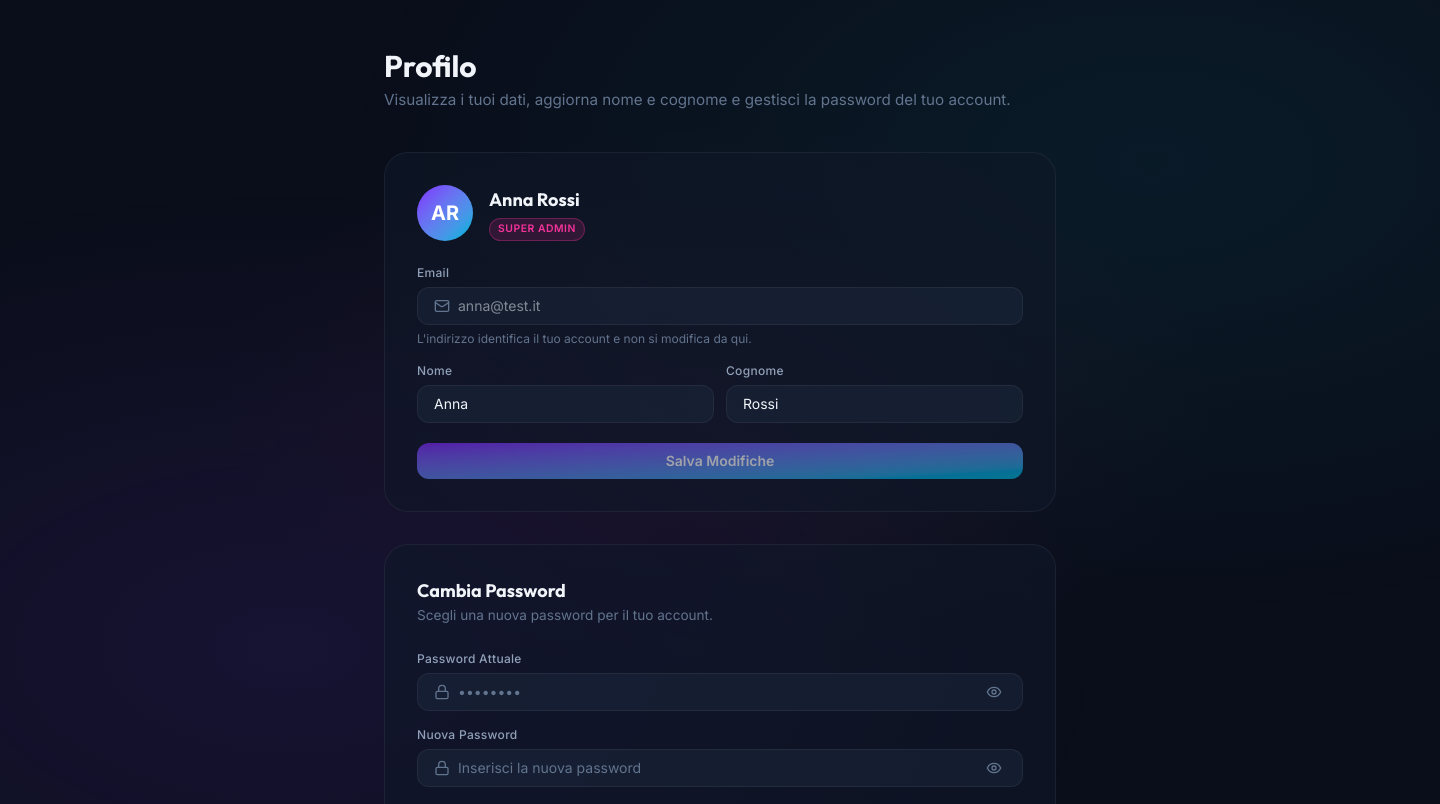
i propri dati › tiene spento il salvataggio finché niente è cambiato
Expected: the button "Salva Modifiche" is disabled, top-left (417, 443), bottom-right (1023, 479)
Type "lisa" into the field labelled "Nome".
click(566, 404); type("lisa")  # box top-left (434, 386), bottom-right (697, 422)
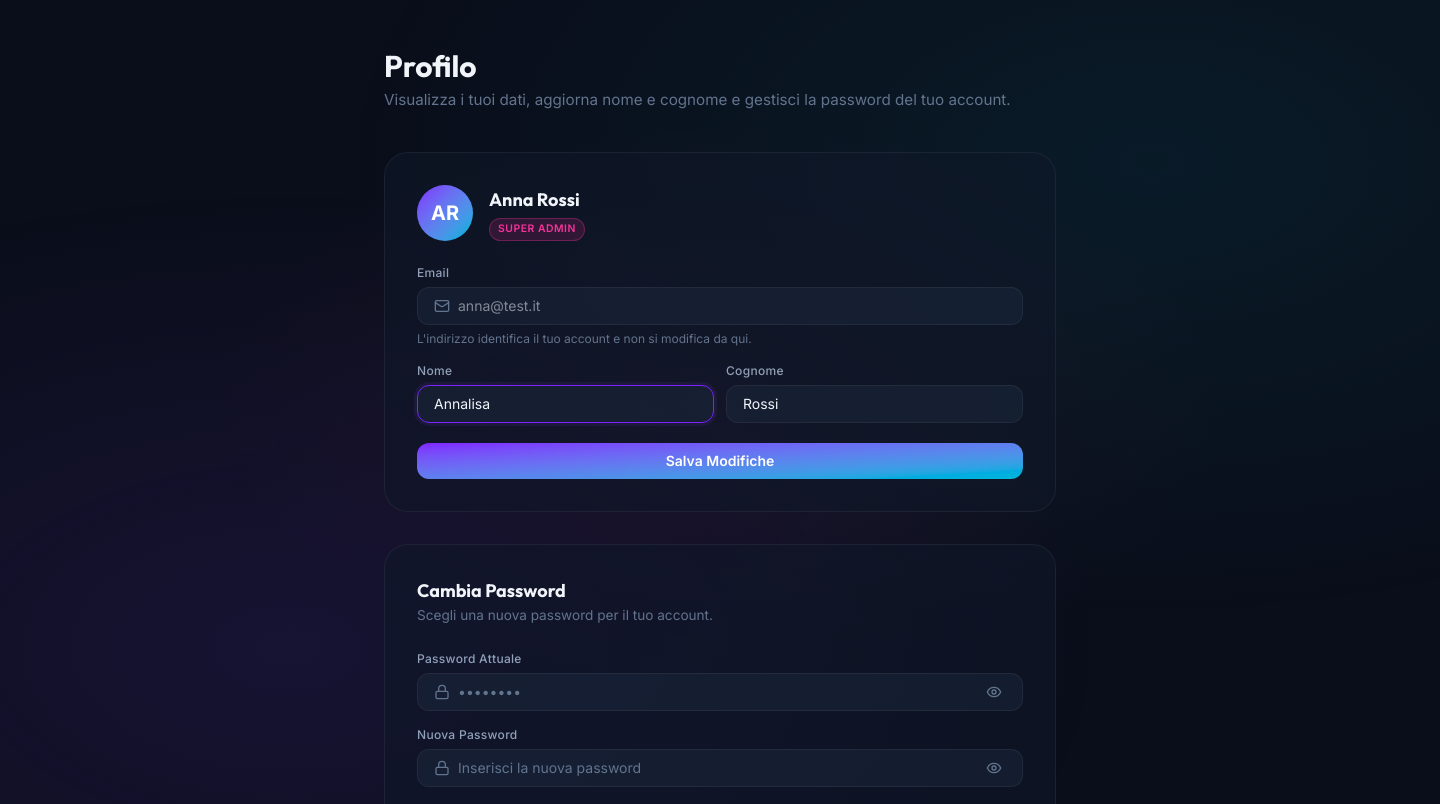
Now the button "Salva Modifiche" is enabled, box top-left (417, 443), bottom-right (1023, 479)
